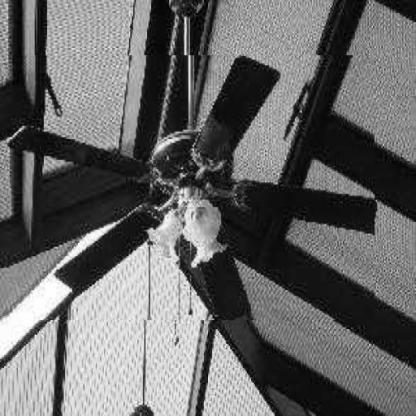ceiling-fan: (6, 55, 375, 321)
